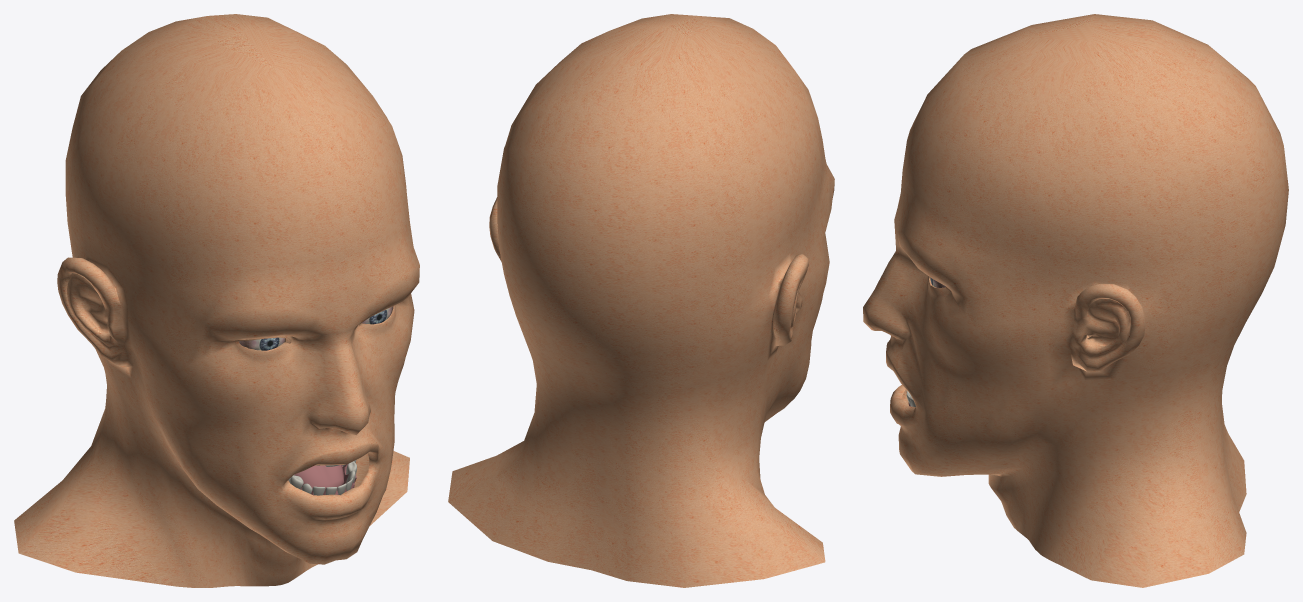
The model's file is Aaaa.FBX.
3 views of the same model, side by side, from view 1: azimuth 30°, elevation 25°; view 2: azimuth 150°, elevation 25°; view 3: azimuth 270°, elevation 25° (orthographic). The views are drawn at different scales.
Visible parts, largest first — view 1: head, gums; view 2: head; view 3: head.
Boxes of the visible parts, left/top/right/bottom form: head: left=14, top=14, right=419, bottom=587; gums: left=294, top=464, right=356, bottom=495; head: left=448, top=14, right=834, bottom=587; head: left=863, top=14, right=1288, bottom=587.
Bounding box in the file's own units: 44.22 × 43.6 × 56.51.
Materials: 4 (2 with a texture image).
